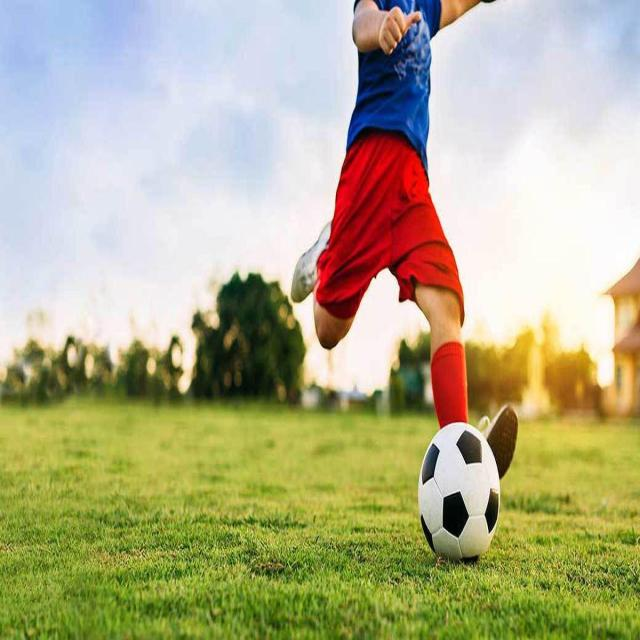Soccer Ball: (419, 422, 500, 563)
